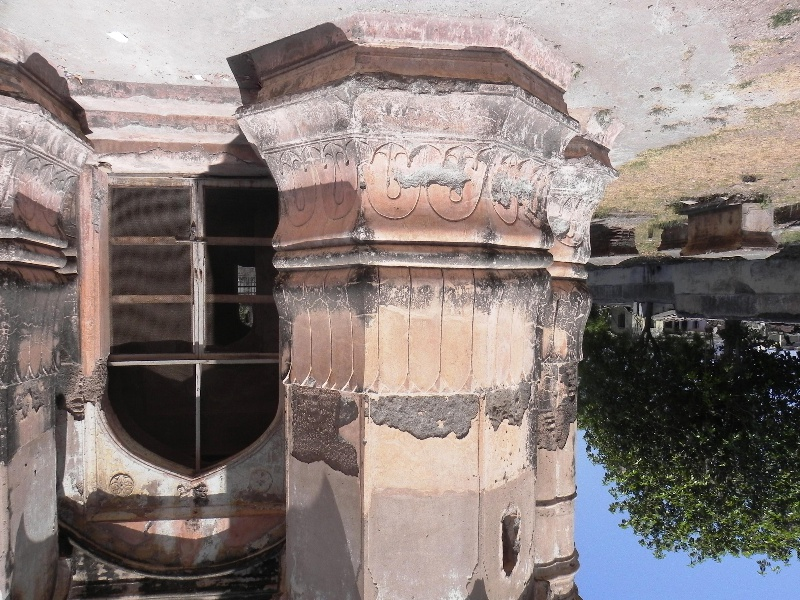Spalling: (361, 390, 539, 437), (283, 379, 361, 478), (55, 355, 112, 428), (394, 162, 474, 191)
